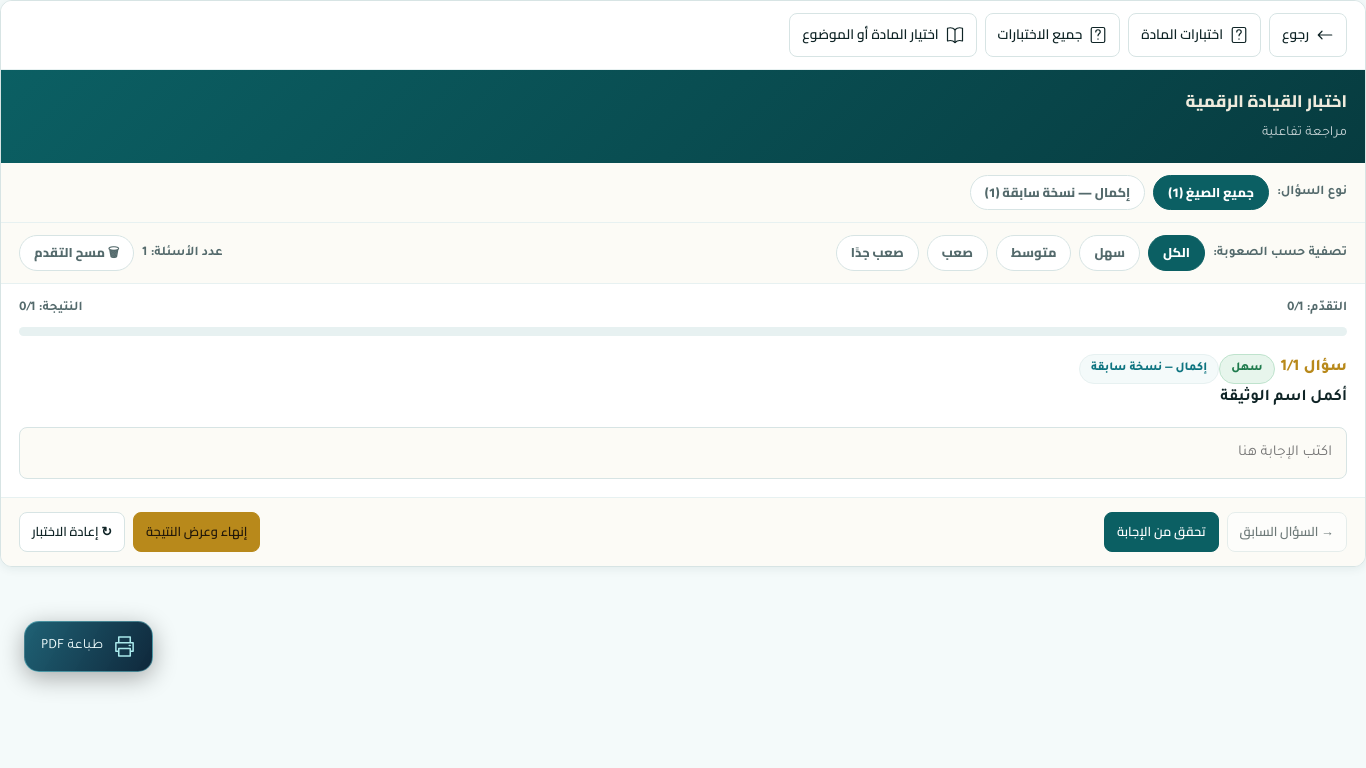
Test: fill, match and order › fill waits for check instead of grading on blur
The image size is (1366, 768).
Step 1. Type "ميثاق المشروع" into the field named "إجابتك" → (683, 453), box [19, 427, 1347, 479]
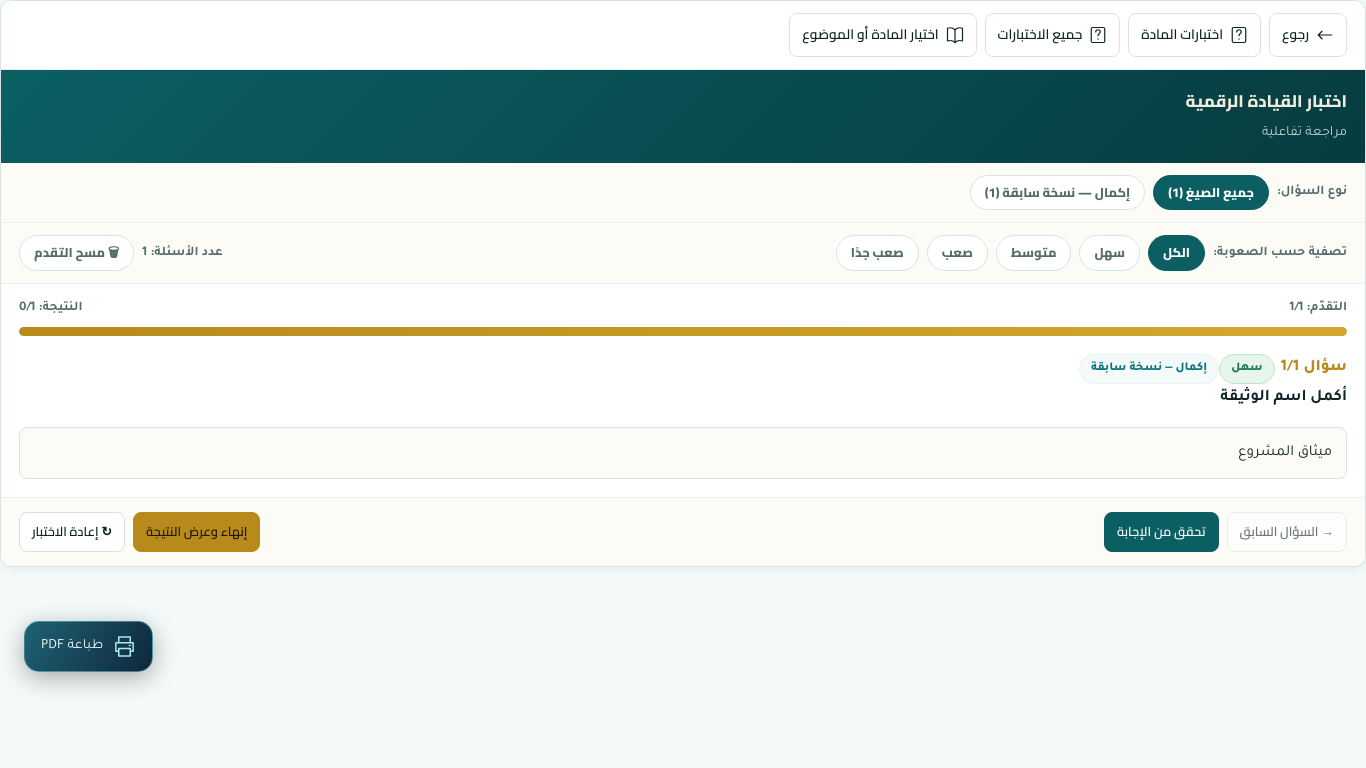
Step 2. Click the button "تحقق من الإجابة" → (1161, 532), box [1104, 512, 1219, 552]
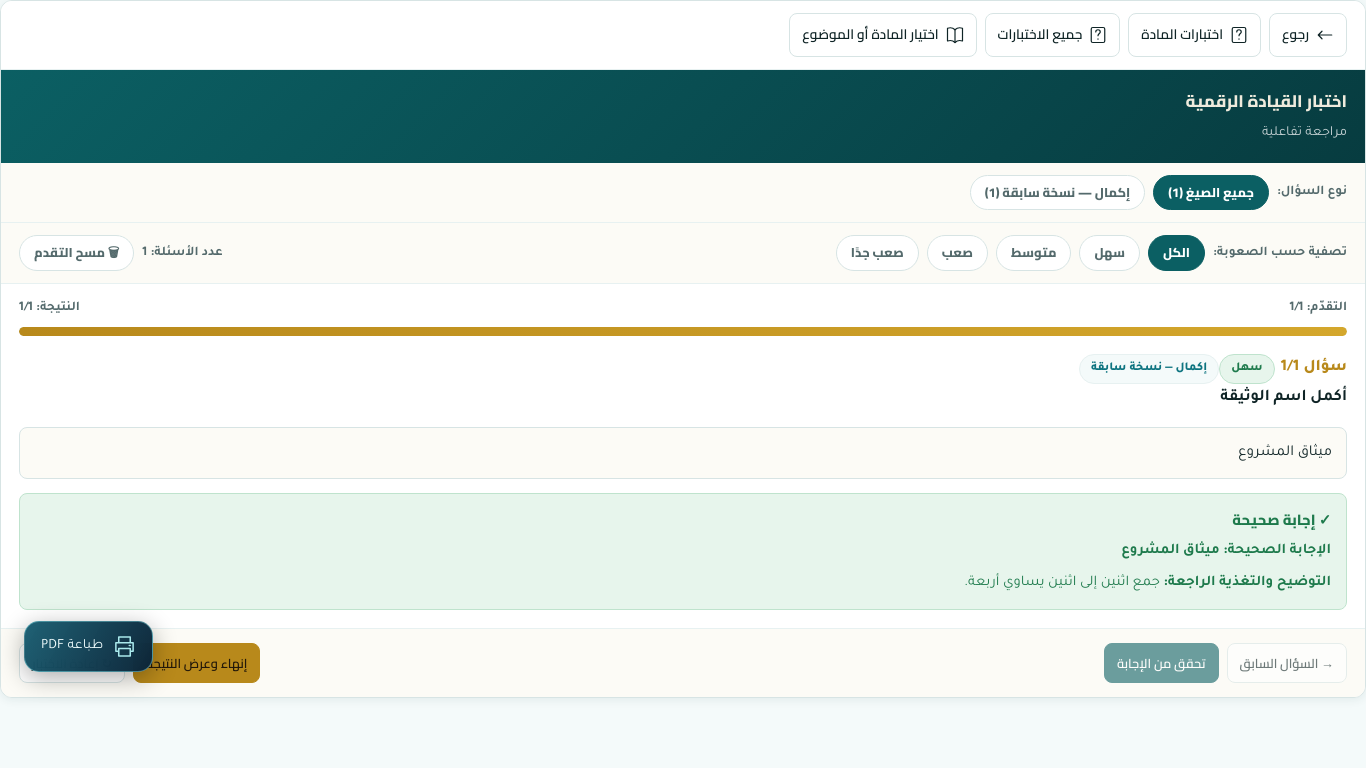
expect the text "✓ إجابة صحيحة" is shown: met, box [1232, 506, 1331, 533]
